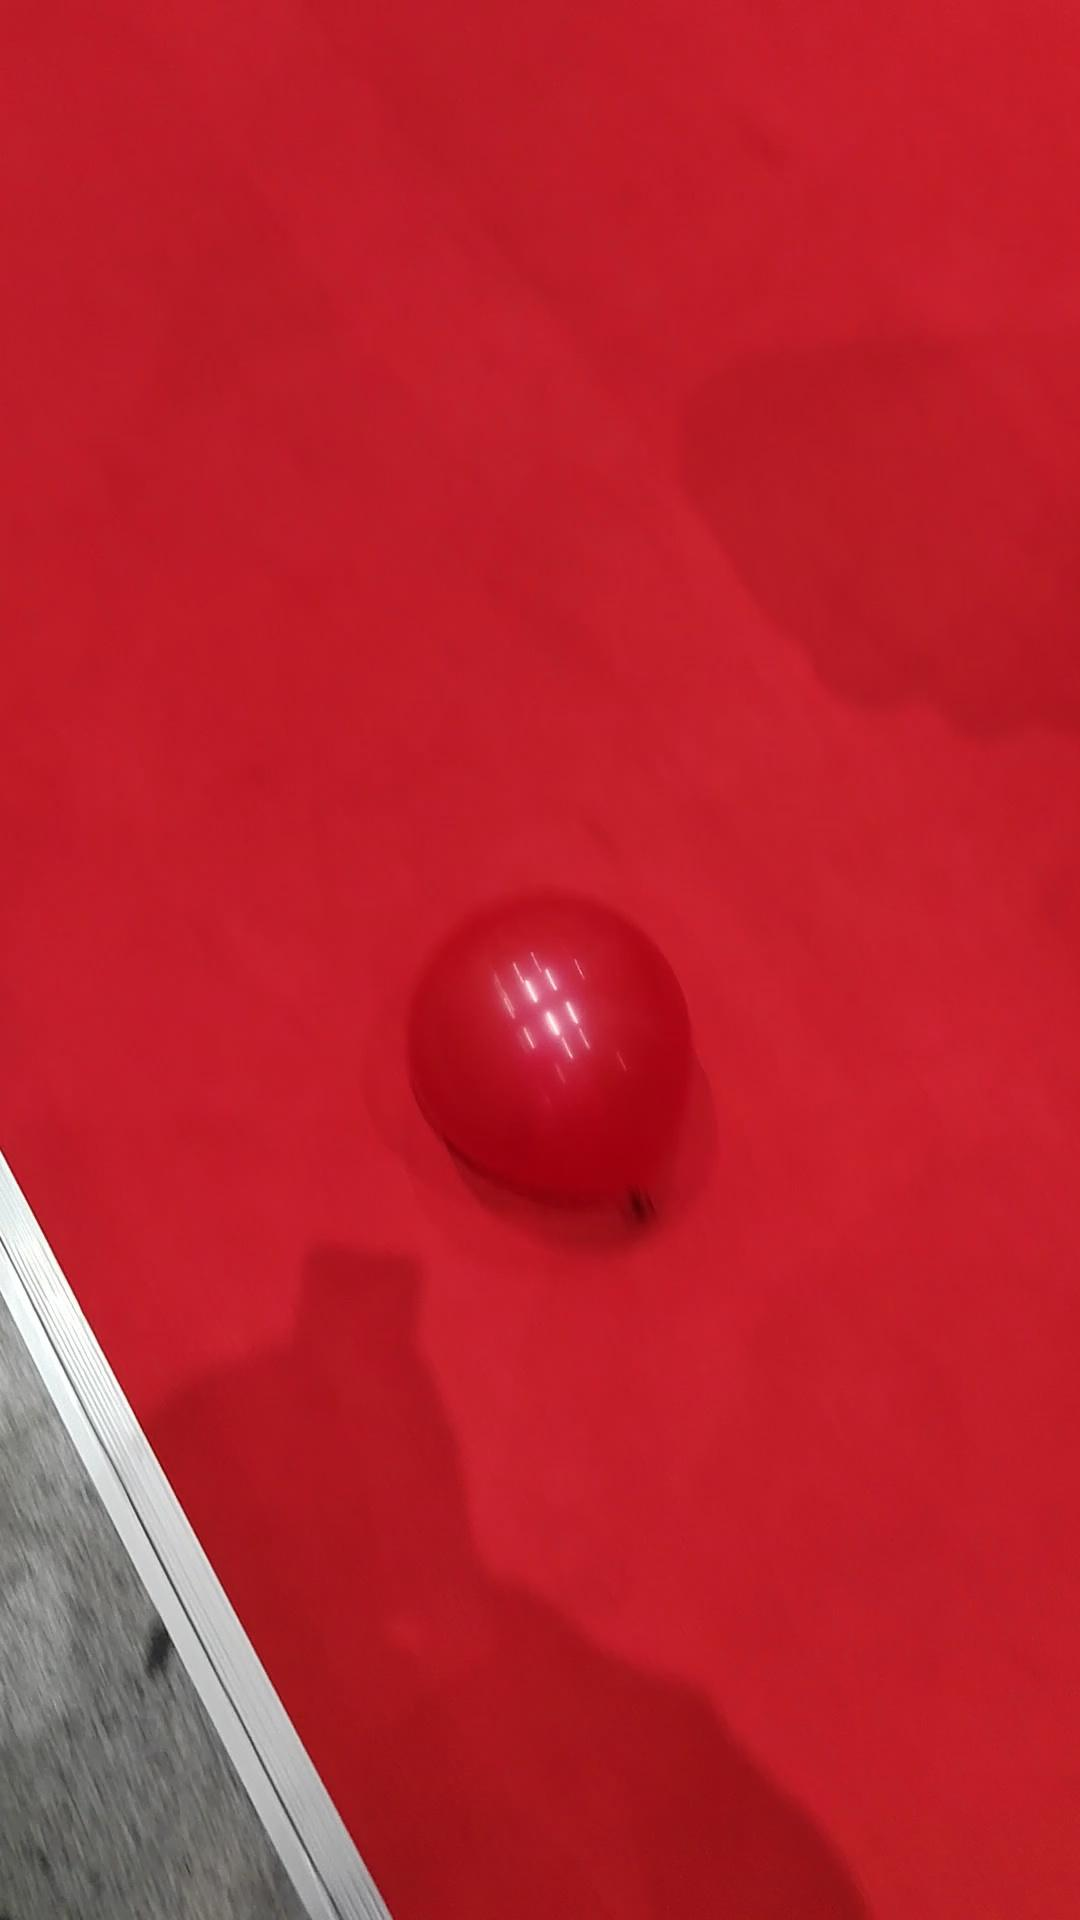red: (407, 893, 698, 1216)
